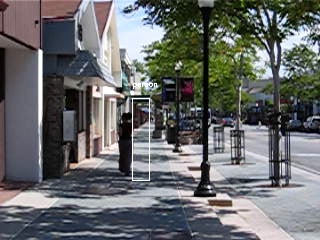person: (119, 112, 136, 178), (118, 112, 135, 178), (120, 112, 137, 178), (119, 111, 136, 177), (119, 113, 136, 179)
target_negative: (10, 148, 275, 231), (104, 49, 196, 236), (184, 15, 238, 178), (183, 164, 269, 217), (69, 230, 248, 235), (228, 25, 273, 38)
